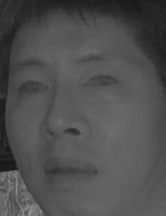eye: (83, 71, 121, 95), (15, 78, 50, 99)
mouth: (34, 151, 101, 190)
